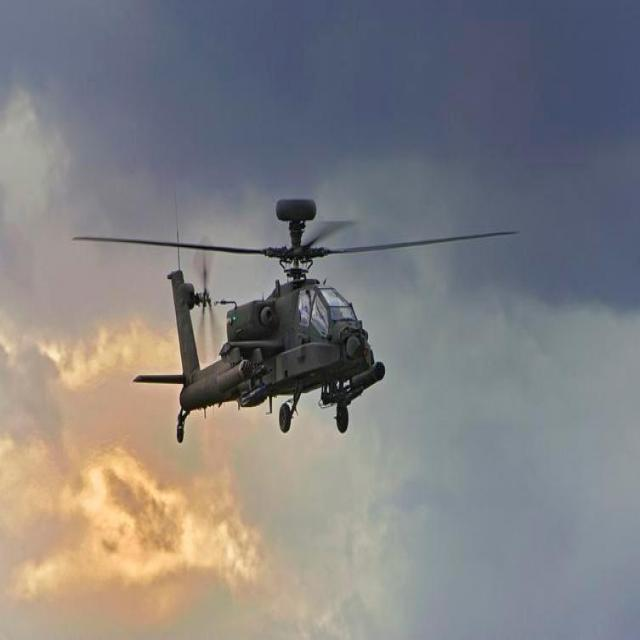MIL_HELO: (74, 178, 523, 449)
